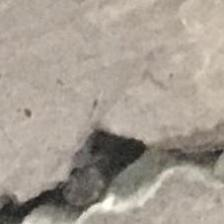Crack: (0, 121, 224, 224)
